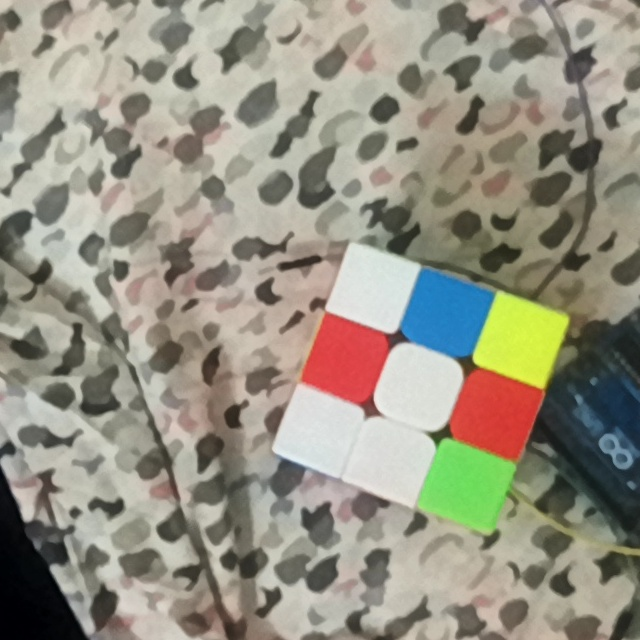tile: (391, 357, 448, 418), (416, 285, 475, 342), (438, 458, 497, 512), (466, 387, 525, 439), (346, 259, 400, 315), (321, 331, 373, 386), (362, 435, 418, 485), (291, 405, 343, 456), (496, 313, 548, 361)
